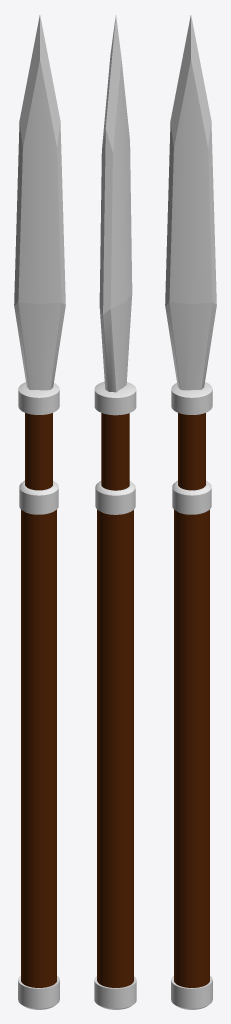
The model's file is gun_3_3.fbx.
The picture shows the model from 3 angles, left to right: view 1: azimuth 90°, elevation 25°; view 2: azimuth 150°, elevation 25°; view 3: azimuth 270°, elevation 25°; orthographic projection.
Visible parts, largest first — view 1: gun_3_2; view 2: gun_3_2; view 3: gun_3_2.
Boxes of the visible parts, x1=… form: gun_3_2: x1=14, y1=15, x2=65, y2=1009; gun_3_2: x1=94, y1=15, x2=136, y2=1009; gun_3_2: x1=165, y1=15, x2=216, y2=1009.
Size of the model in its own units: 343 by 8746 by 415.
